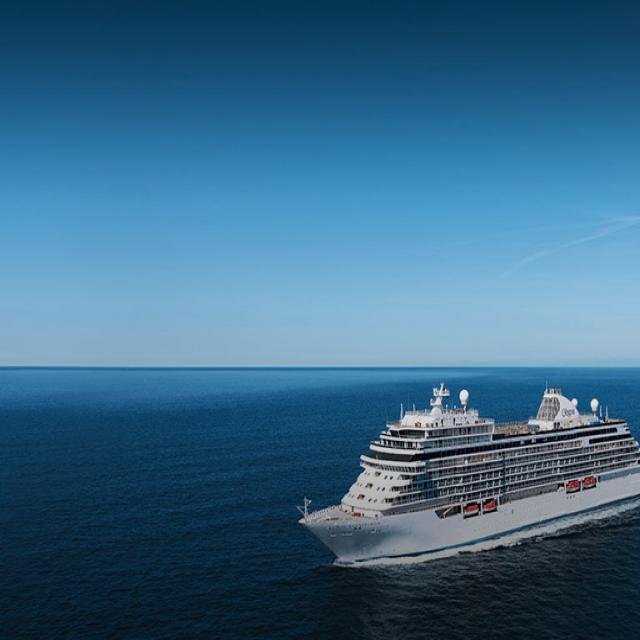passenger ship: (296, 381, 638, 568)
